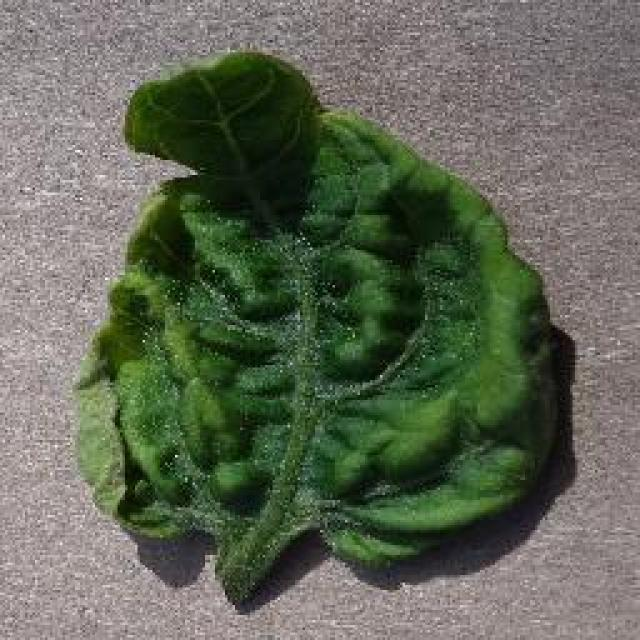Tomato yellow virus leaf: (71, 46, 556, 568)
